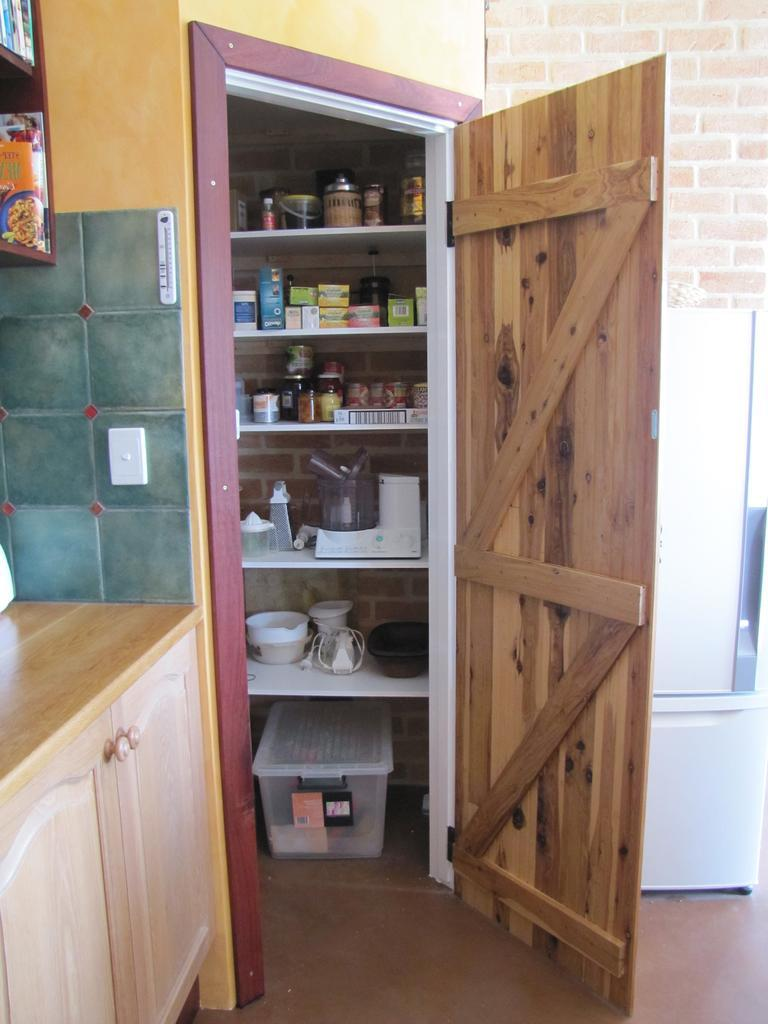door: (453, 62, 663, 1010)
